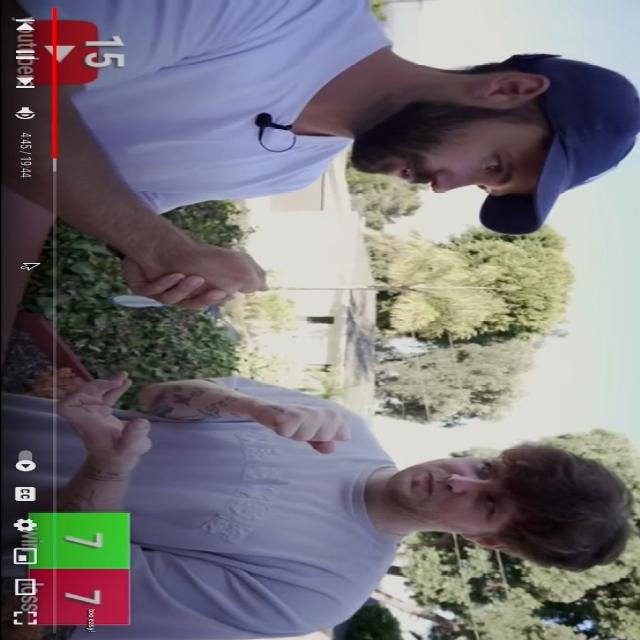Rock: (137, 246, 270, 296), (264, 406, 352, 456)
